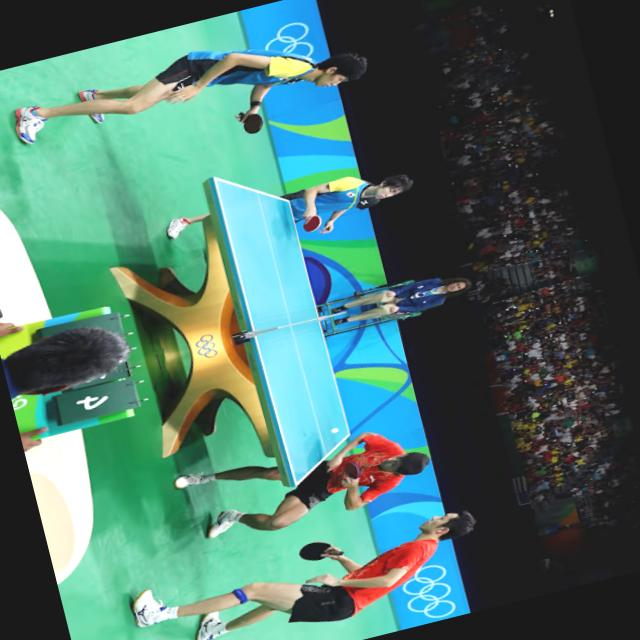TT Net: (237, 307, 348, 341)
TT Racket: (291, 532, 346, 568), (228, 103, 268, 140), (336, 456, 364, 492), (293, 210, 326, 237)
TT Table: (210, 158, 362, 487)
